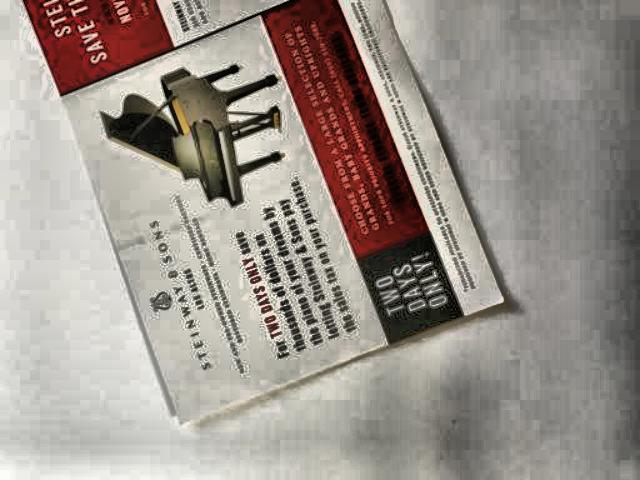Paper: (19, 0, 504, 419)
